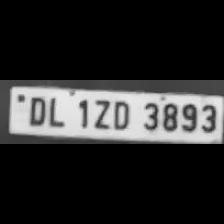1: (71, 95, 91, 129)
3: (138, 99, 160, 131), (198, 100, 218, 134)
8: (160, 100, 178, 132)
9: (178, 100, 198, 132)
D: (108, 98, 132, 130), (24, 94, 46, 125)
L: (46, 95, 68, 127)
Z: (90, 96, 110, 132)
